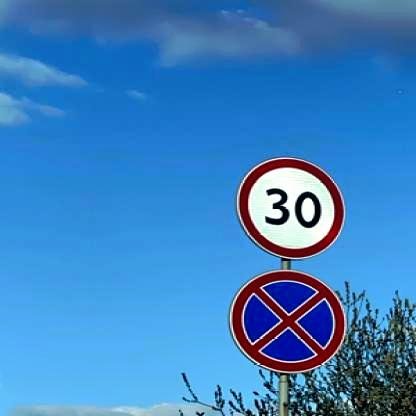Speed Limit -30-: (234, 152, 350, 260)
